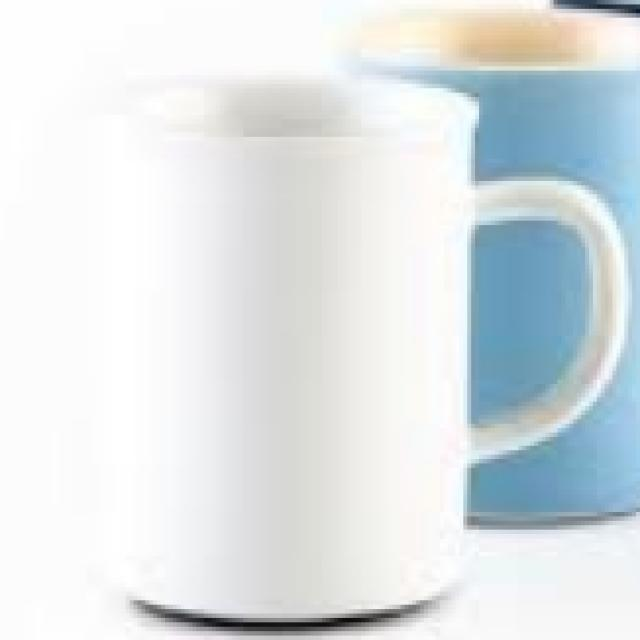taza: (114, 76, 626, 624)
